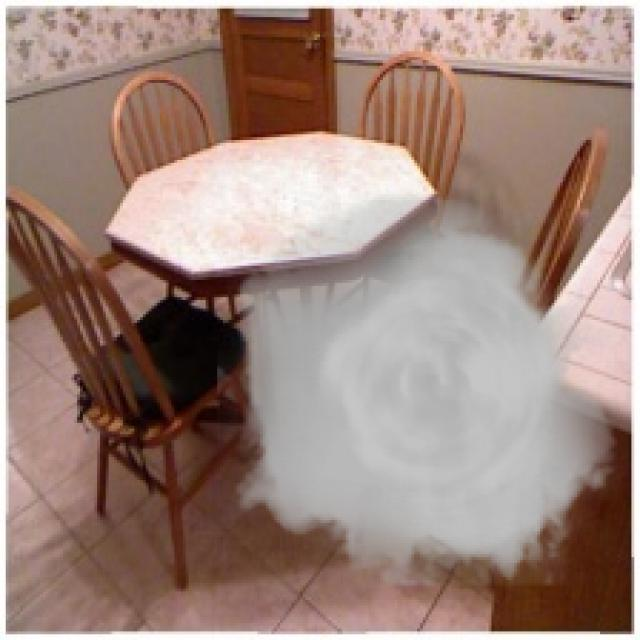smoke: (217, 191, 629, 586)
